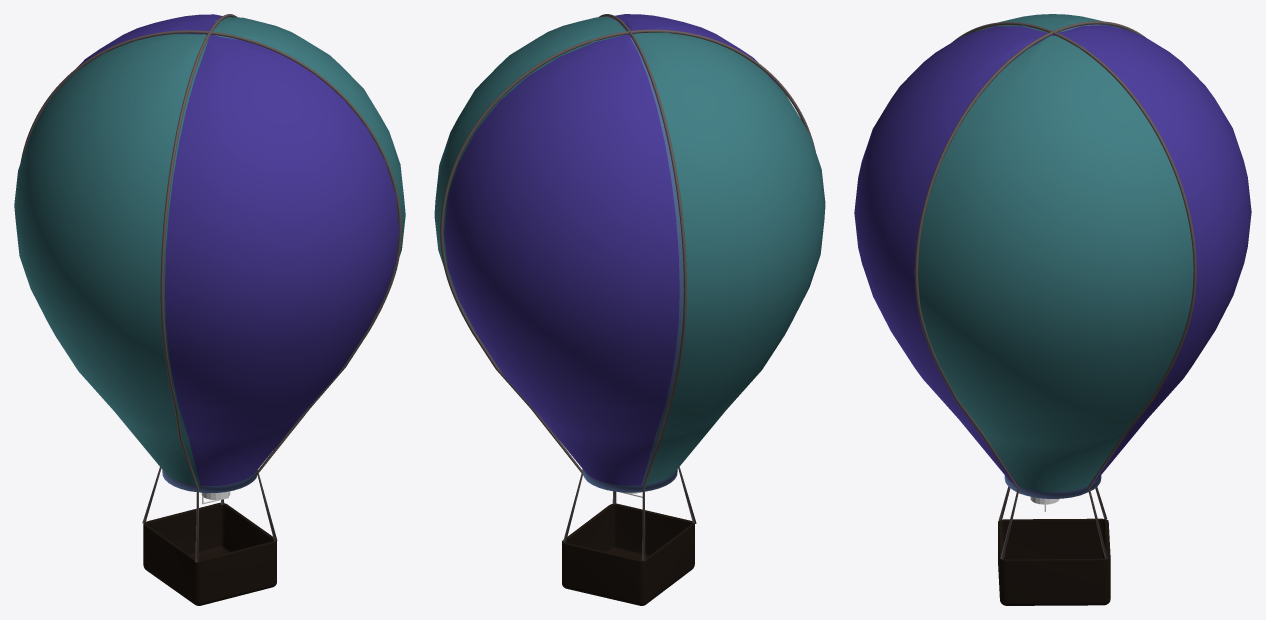
Rendered from villainBalloon_02.FBX.
The picture shows the model from 3 angles, left to right: view 1: azimuth 30°, elevation 25°; view 2: azimuth 150°, elevation 25°; view 3: azimuth 270°, elevation 25°; orthographic projection.
Visible parts, largest first — view 1: HAB_MockUp_01; view 2: HAB_MockUp_01; view 3: HAB_MockUp_01.
Boxes of the visible parts, box(x1,y1,x2,y2) form: HAB_MockUp_01: box(14, 14, 405, 605); HAB_MockUp_01: box(434, 14, 825, 605); HAB_MockUp_01: box(854, 14, 1251, 605).
Size of the model in its own units: 27.11 by 41.82 by 27.11.
